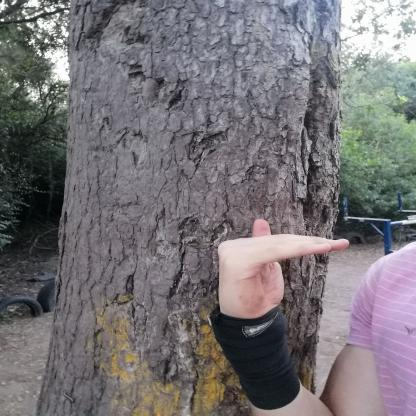KHAA: (195, 211, 369, 327)
